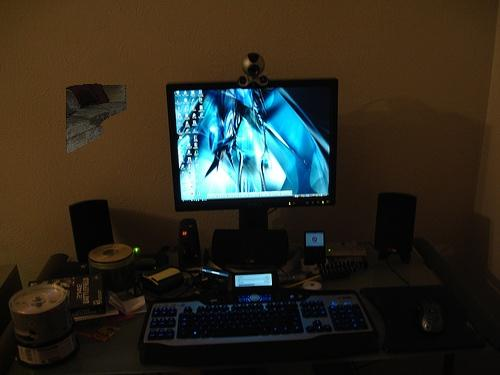tampered: (67, 84, 127, 153)
